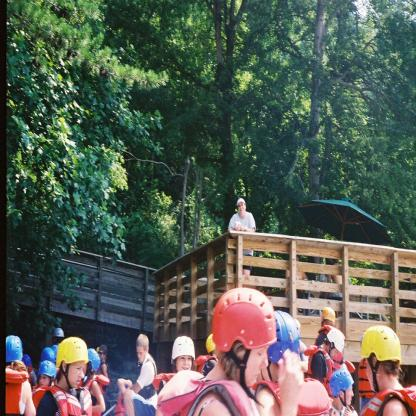Helmet: (212, 287, 276, 406), (358, 324, 401, 394), (268, 309, 300, 366), (56, 336, 88, 392), (328, 368, 354, 407), (170, 334, 195, 372), (326, 328, 344, 358), (36, 362, 57, 386), (5, 334, 21, 364), (321, 305, 336, 332), (86, 347, 100, 374), (40, 344, 56, 362), (206, 336, 216, 354), (53, 343, 61, 358), (21, 354, 30, 367), (56, 328, 63, 336)
